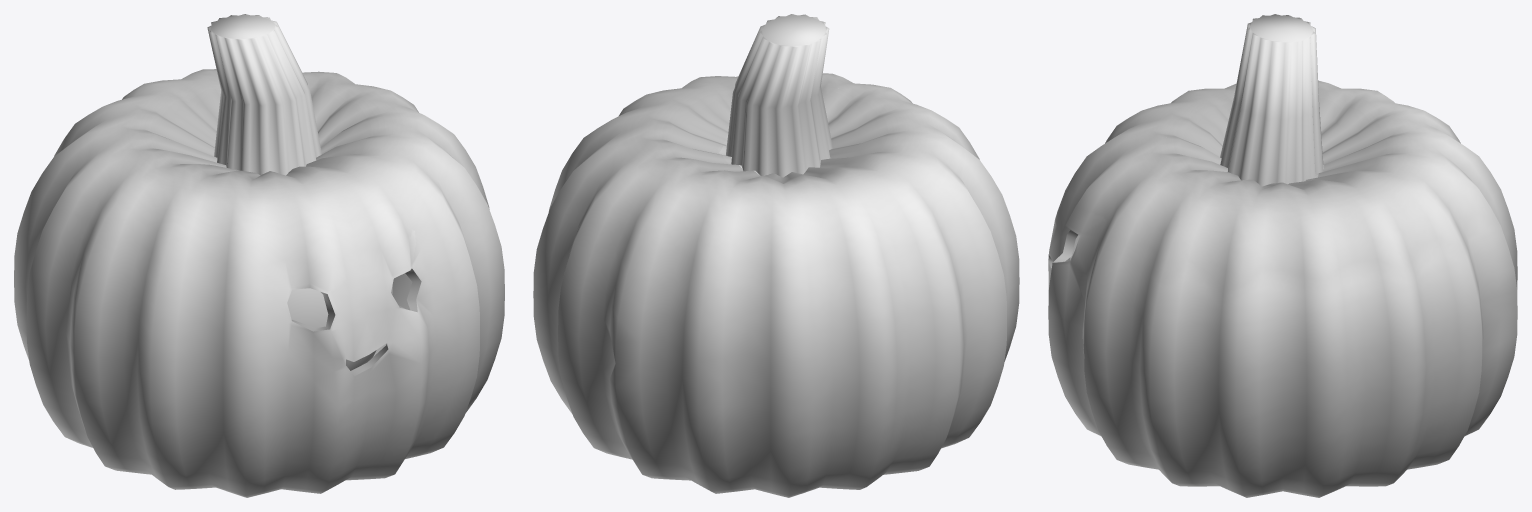
The model's file is PUMPKIN.fbx.
The picture shows the model from 3 angles, left to right: view 1: azimuth 30°, elevation 25°; view 2: azimuth 150°, elevation 25°; view 3: azimuth 270°, elevation 25°; orthographic projection. The views are drawn at different scales.
Visible parts, largest first — view 1: PUMPKIN, LIGHT; view 2: PUMPKIN; view 3: PUMPKIN.
Part boxes in pixels (x1,y1,x2,y2): PUMPKIN: [14, 14, 504, 497]; LIGHT: [287, 285, 392, 370]; PUMPKIN: [533, 14, 1019, 497]; PUMPKIN: [1048, 14, 1517, 497].
Size of the model in its own units: 0.1743 by 0.1606 by 0.1743.
1 material, 1 textured.
